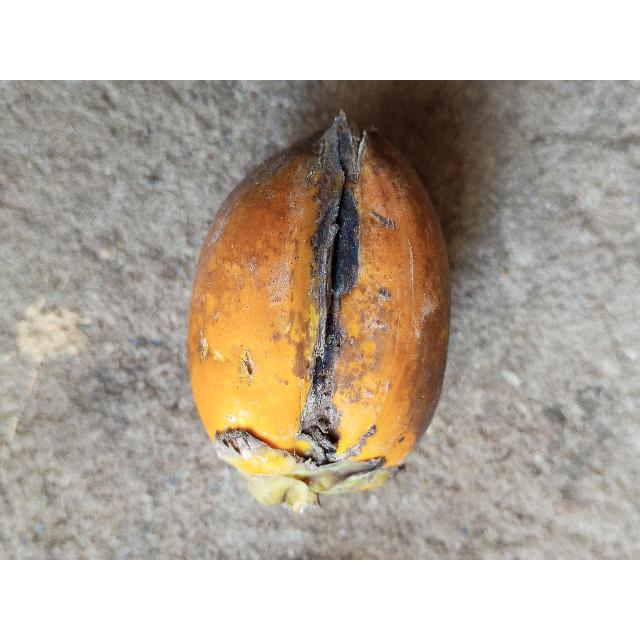damaged: (187, 113, 452, 512)
